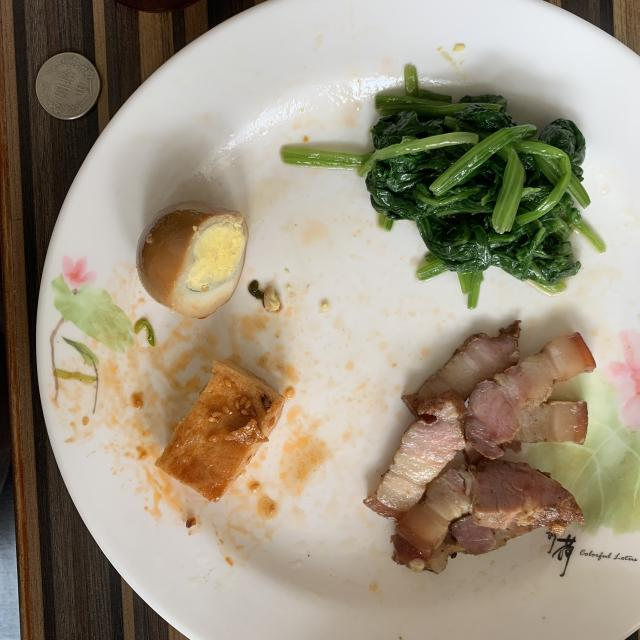coin: (36, 52, 100, 120)
creamy tofu: (155, 361, 284, 501)
grilled pork: (365, 321, 595, 574)
mustard greens: (282, 65, 600, 308)
soy egg: (136, 201, 249, 319)
